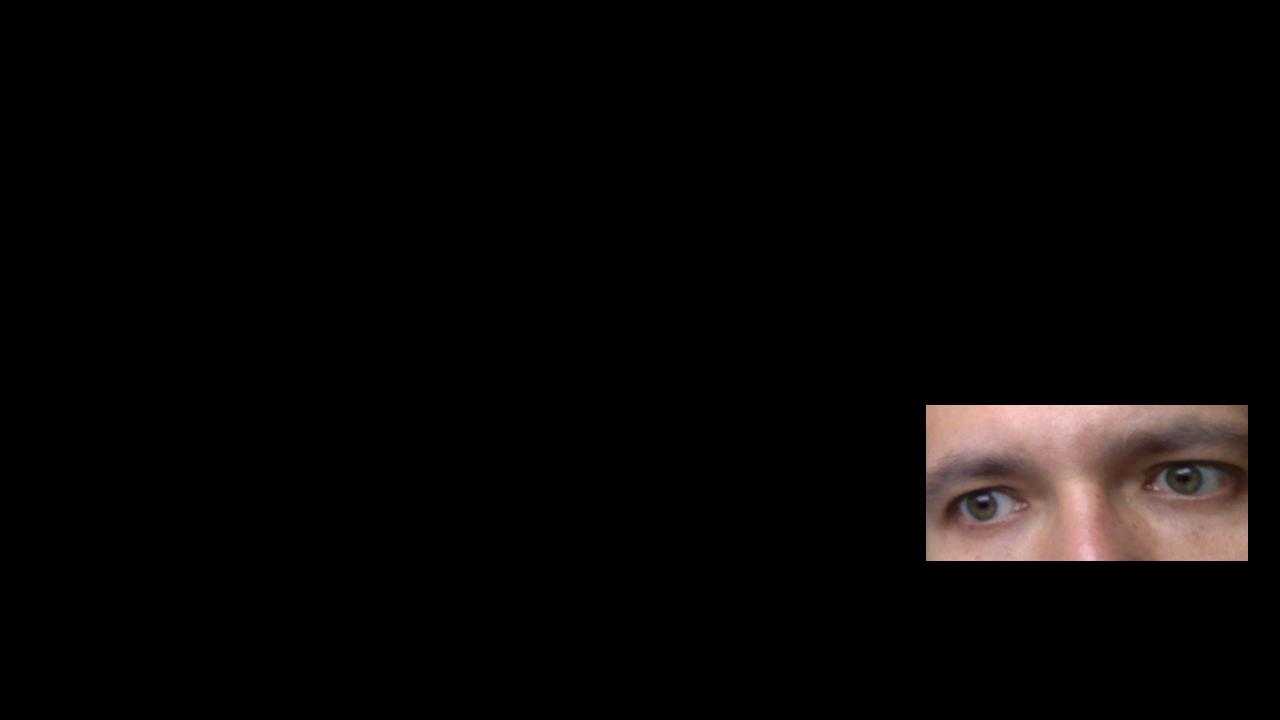eye: (1162, 464, 1202, 493), (965, 492, 1000, 520)
